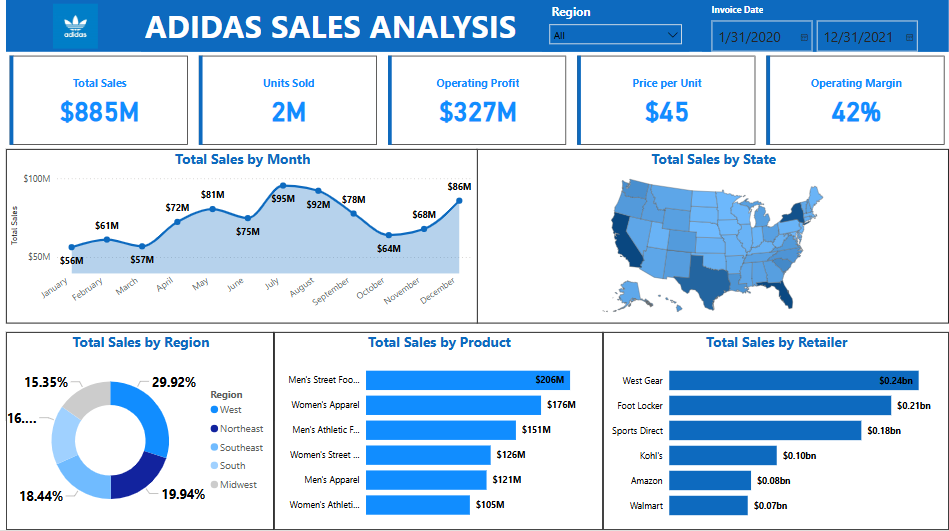

The page's visual inventory and layout, read from the dashboard file:
{"tool":"powerbi","page":{"name":"Page 1","canvas":[1280,720],"ordinal":0},"visuals":[{"type":"shape","box":[0,0,1280.5,70.2],"z":0},{"type":"textbox","box":[182.9,0,570.7,70.2],"z":1000},{"type":"image","box":[25.2,0,136.1,70.6],"z":2000},{"type":"cardVisual","fields":{"Data":["Sum(Table1.Total Sales)","Sum(Table1.Units Sold)","Sum(Table1.Operating Profit)","Avg(Table1.Price per Unit)","Avg(Table1.Operating Margin)"]},"box":[0,70.2,1280.5,131.7],"z":3000},{"type":"areaChart","title":"Total Sales by Month","fields":{"Category":["Table1.Invoice Date.Variation.Date Hierarchy.Month"],"Y":["Sum(Table1.Total Sales)"]},"box":[0,202,641,237.1],"z":4000},{"type":"shapeMap","title":"Total Sales by State","fields":{"Category":["Table1.State"],"Value":["Sum(Table1.Total Sales)"]},"box":[639.5,202,641,237.1],"z":5000},{"type":"donutChart","title":"Total Sales by Region","fields":{"Category":["Table1.Region"],"Y":["Sum(Table1.Total Sales)"]},"box":[0,450.7,364.4,269.3],"z":6000},{"type":"barChart","title":"Total Sales by Product","fields":{"Category":["Table1.Product"],"Y":["Sum(Table1.Total Sales)"]},"box":[364.3,451.4,447.1,268.6],"z":7000},{"type":"barChart","title":"Total Sales by Retailer","fields":{"Y":["Sum(Table1.Total Sales)"],"Category":["Table1.Retailer"]},"box":[810.7,450.7,469.8,269.3],"z":8000},{"type":"slicer","fields":{"Values":["Table1.Region"]},"box":[728.8,0,200.5,70.2],"z":9000},{"type":"slicer","fields":{"Values":["Table1.Invoice Date"]},"box":[945.4,0,335.1,70.2],"z":10000}]}

Visuals, with their boxes in screenshot pixels (x1, y1, x2, y2), scaled from the page's 1280x720 canvas onto the 949x531 screenshot:
shape: [0,0,948,52]
textbox: [136,0,559,52]
image: [19,0,120,52]
cardVisual - Sum(Table1.Total Sales) x Sum(Table1.Units Sold): [0,52,948,149]
"Total Sales by Month" areaChart: [0,149,475,324]
"Total Sales by State" shapeMap: [474,149,948,324]
"Total Sales by Region" donutChart: [0,332,270,530]
"Total Sales by Product" barChart: [270,333,602,530]
"Total Sales by Retailer" barChart: [601,332,948,530]
slicer - Table1.Region: [540,0,689,52]
slicer - Table1.Invoice Date: [701,0,948,52]
